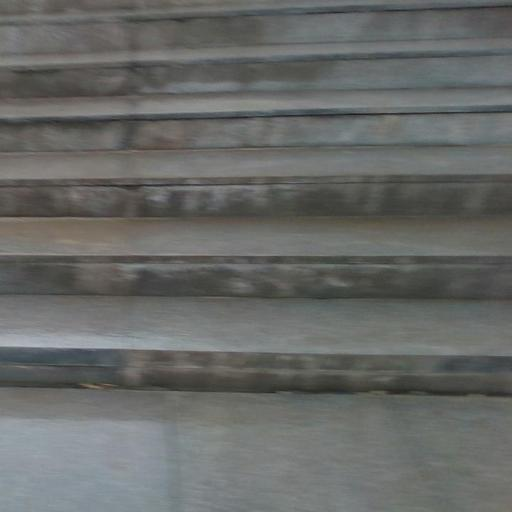stairs: (0, 0, 511, 393)
